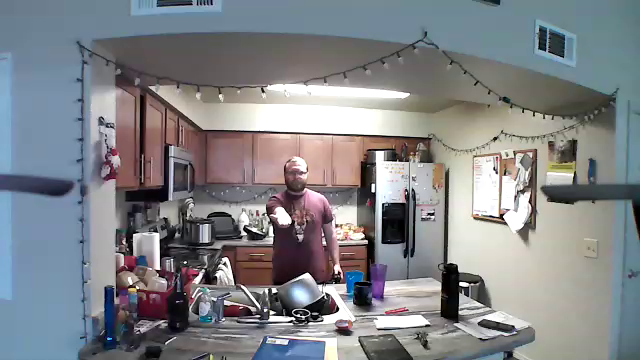land: (267, 211, 295, 230)
